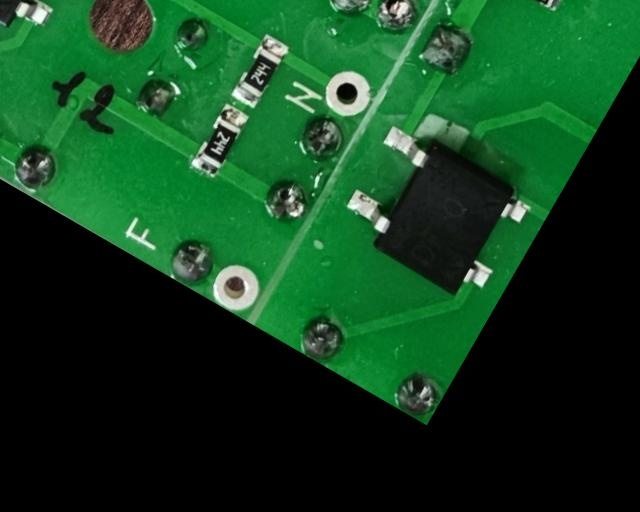chip-resistor: (185, 99, 253, 183), (227, 29, 294, 112)
ic: (327, 115, 541, 314)
